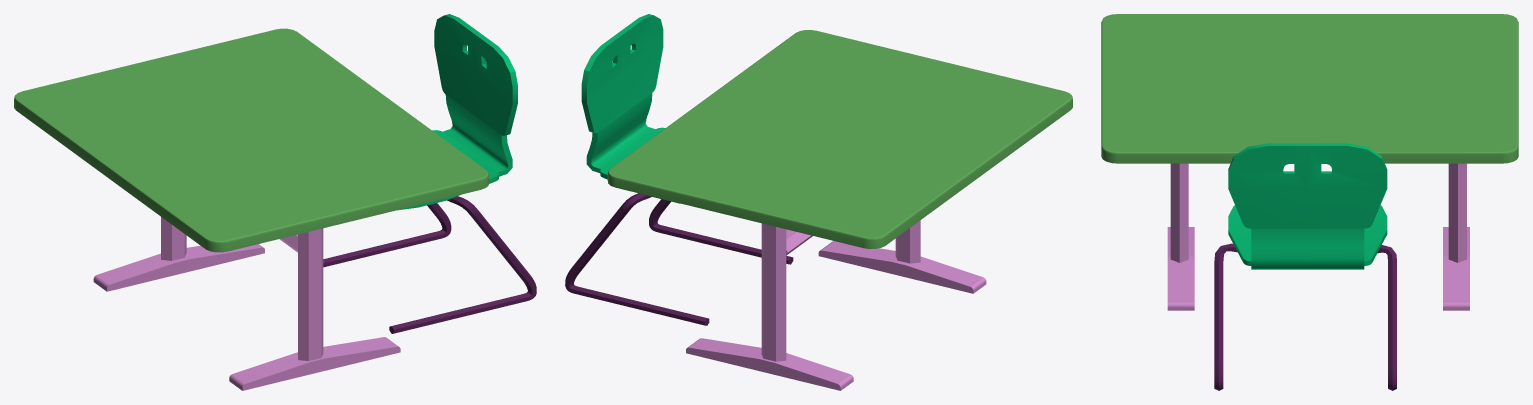
The model's file is Chair and table.fbx.
3 views of the same model, side by side, from view 1: azimuth 30°, elevation 25°; view 2: azimuth 150°, elevation 25°; view 3: azimuth 270°, elevation 25° (orthographic). The views are drawn at different scales.
Parts seen in each view (by area): view 1: polySurface21, polySurface25; view 2: polySurface21, polySurface25; view 3: polySurface21, polySurface25.
Boxes of the visible parts, x1,y1,x2,y2 form: polySurface21: [14, 28, 488, 390]; polySurface25: [323, 14, 536, 333]; polySurface21: [607, 30, 1072, 390]; polySurface25: [565, 14, 793, 325]; polySurface21: [1101, 14, 1518, 310]; polySurface25: [1214, 143, 1396, 390].
Size of the model in its own units: 7.03 by 4.19 by 6.57.
